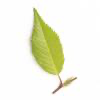Cherry leaf: (28, 6, 72, 77)
